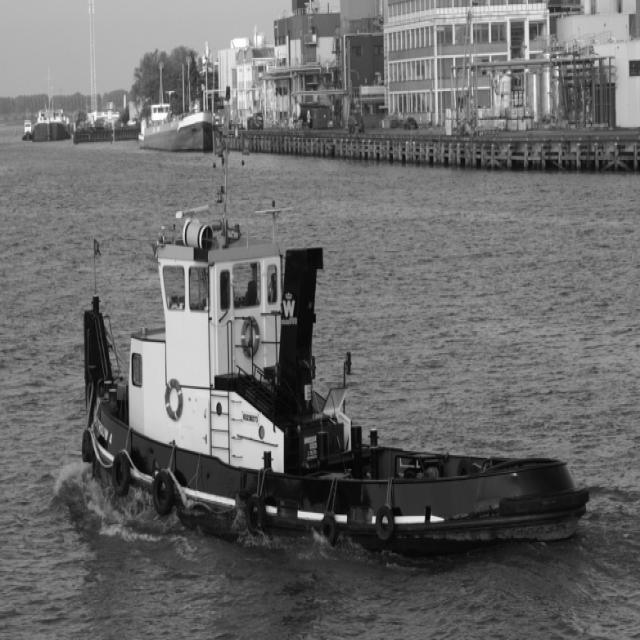tugboat: (78, 81, 595, 575)
